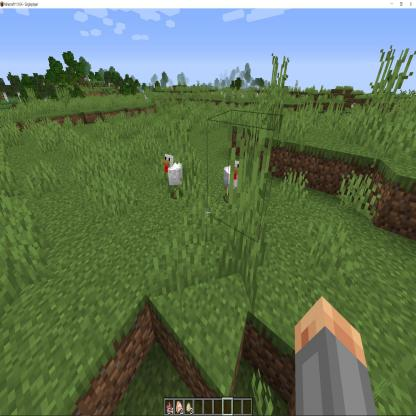minecraft-pigs: (162, 152, 184, 203), (222, 157, 242, 205), (240, 90, 245, 100), (144, 94, 148, 102), (232, 93, 235, 101)
